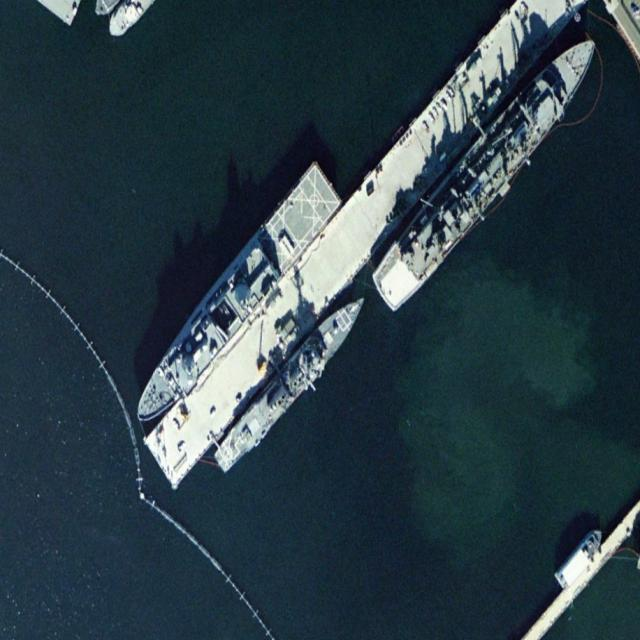Auxiliary Ships: (122, 159, 344, 439)
Commander: (365, 16, 609, 318)
Destroyer: (209, 279, 374, 482)
Other Ship: (553, 520, 607, 591)
